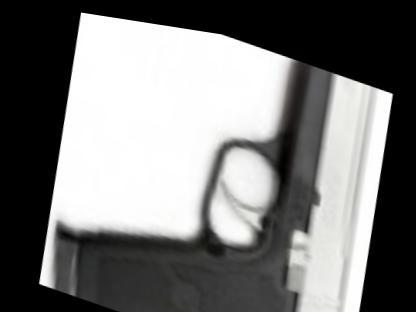pistol: (38, 4, 396, 311)
